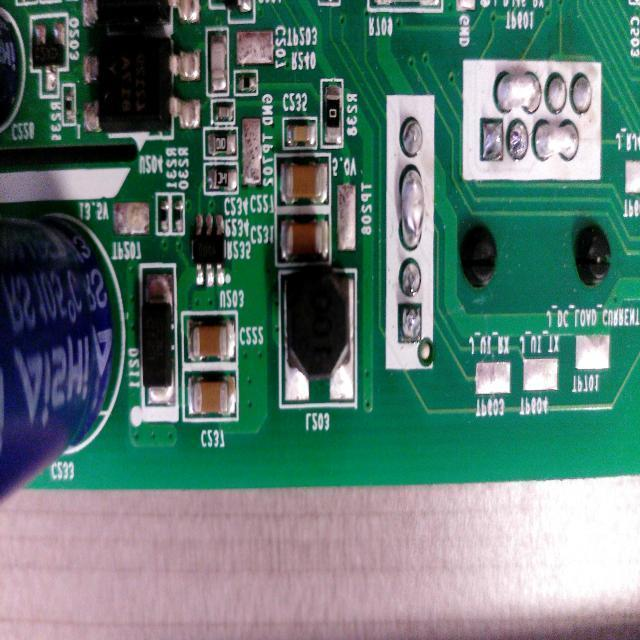Soldering bridge: (396, 159, 427, 253), (531, 119, 581, 171), (491, 66, 544, 115)
